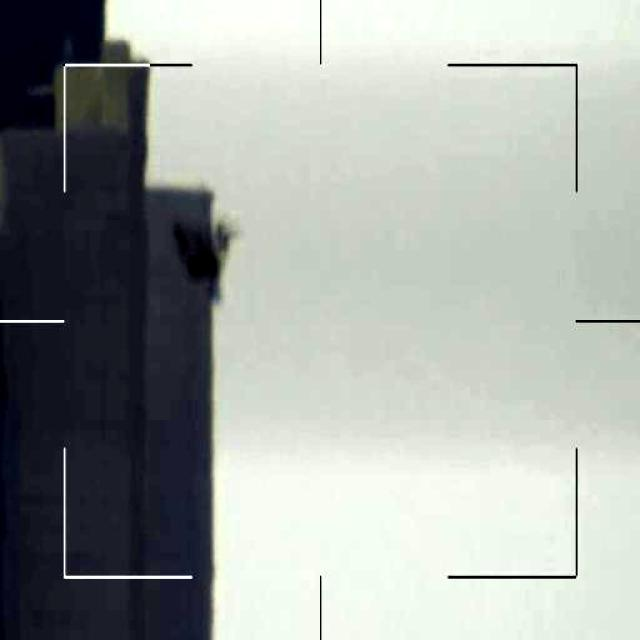bird: (162, 211, 226, 305)
